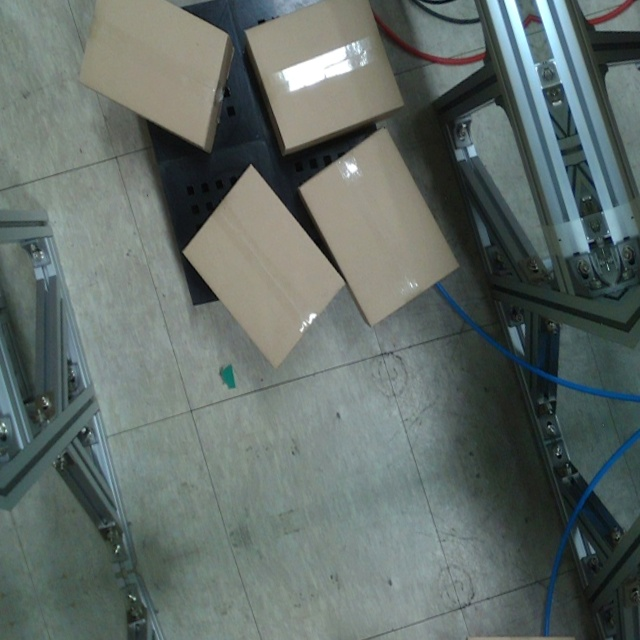box: (181, 161, 347, 368), (298, 127, 463, 326), (242, 0, 404, 150), (77, 0, 232, 144)
